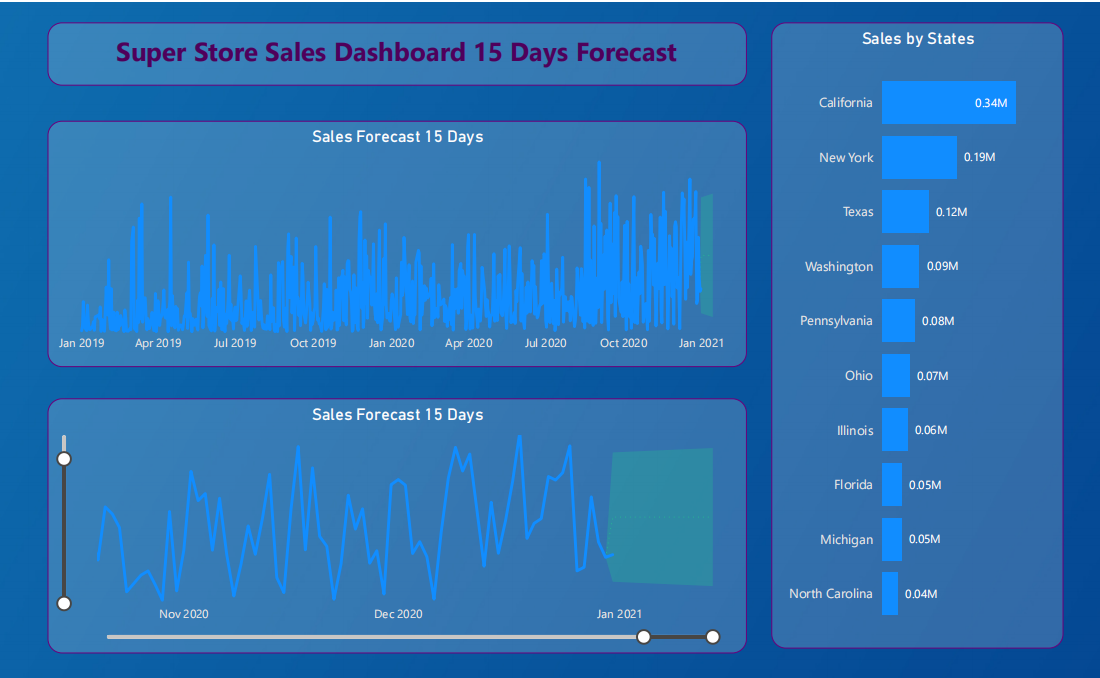

This screenshot's page, from the dashboard's own definition file:
{"tool":"powerbi","page":{"name":"Page 2","canvas":[1280,720],"ordinal":1},"visuals":[{"type":"lineChart","title":"Sales Forecast 15 Days","fields":{"Y":["Sum(SuperStore_Sales_Dataset.Sales)"],"Category":["SuperStore_Sales_Dataset.Order Date"]},"box":[175,121.2,717.5,252.5],"z":0},{"type":"lineChart","title":"Sales Forecast 15 Days","fields":{"Y":["Sum(SuperStore_Sales_Dataset.Sales)"],"Category":["SuperStore_Sales_Dataset.Order Date"]},"box":[175,406.2,717.5,261.2],"z":1000},{"type":"clusteredBarChart","title":"Sales by States","fields":{"Y":["Sum(SuperStore_Sales_Dataset.Sales)"],"Category":["SuperStore_Sales_Dataset.State"]},"box":[917.5,20,300,642.5],"z":2000},{"type":"textbox","box":[175,20,717.5,65],"z":2001}]}

Visuals, with their boxes on the page's 1280x720 design canvas (x1, y1, x2, y2). These are canvas units, not pixel positions in the 1100x678 screenshot, which may show the page scaled, cropped or inside an application window:
"Sales Forecast 15 Days" lineChart: BBox(175, 121, 892, 374)
"Sales Forecast 15 Days" lineChart: BBox(175, 406, 892, 667)
"Sales by States" clusteredBarChart: BBox(918, 20, 1218, 662)
textbox: BBox(175, 20, 892, 85)
